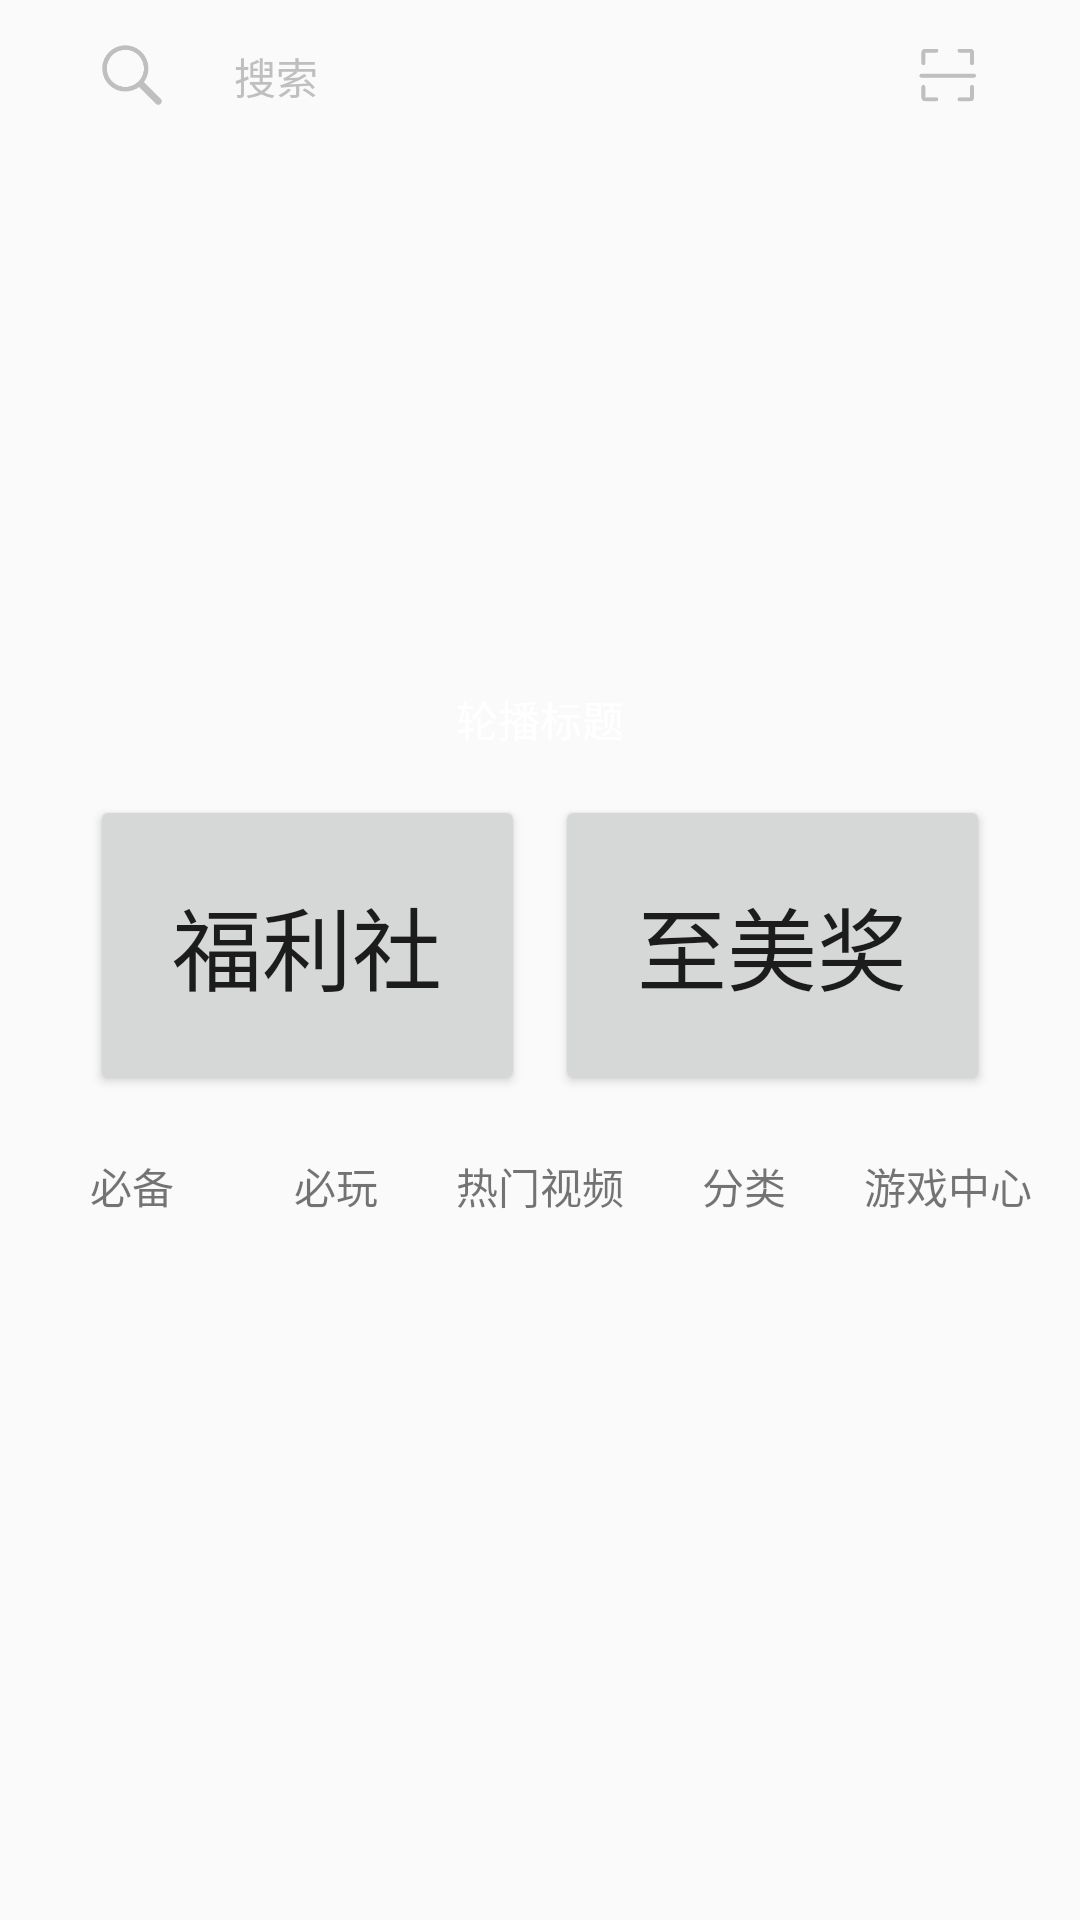

Icons on this 1080px×1920px Android screen, each with its box as (x1=x1, y1=y1, x2=x2, y2=y2):
scan: (x1=919, y1=49, x2=976, y2=101)
search: (x1=102, y1=45, x2=162, y2=105)
